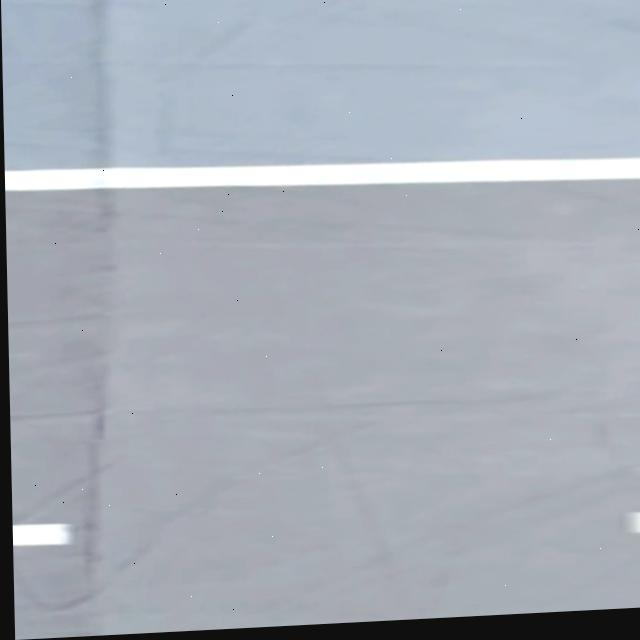center: (12, 523, 71, 546), (626, 513, 640, 532)
left: (4, 157, 640, 190)
